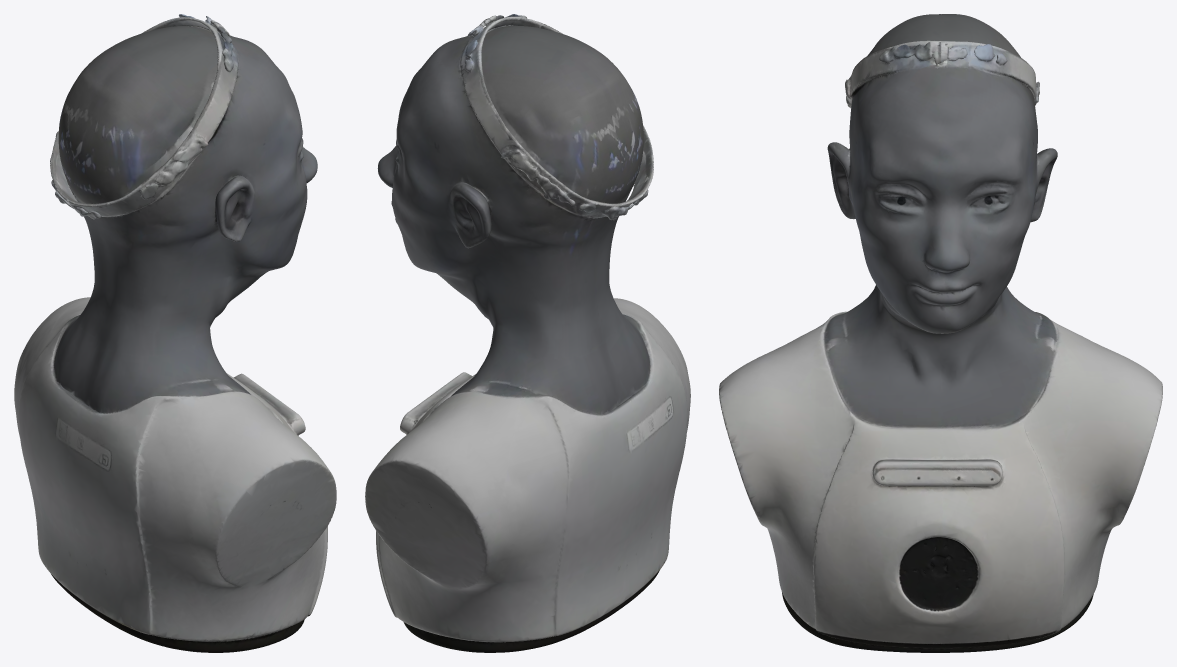
Rendered from ameca.glb.
The picture shows the model from 3 angles, left to right: view 1: azimuth 30°, elevation 25°; view 2: azimuth 150°, elevation 25°; view 3: azimuth 270°, elevation 25°; orthographic projection. The views are drawn at different scales.
Visible parts, largest first — view 1: tripo_node_65aad20d-221b-40c7-afce-131884609060; view 2: tripo_node_65aad20d-221b-40c7-afce-131884609060; view 3: tripo_node_65aad20d-221b-40c7-afce-131884609060.
Part boxes in pixels (x1,y1,x2,y2): tripo_node_65aad20d-221b-40c7-afce-131884609060: (14,14,336,652); tripo_node_65aad20d-221b-40c7-afce-131884609060: (365,14,690,652); tripo_node_65aad20d-221b-40c7-afce-131884609060: (719,14,1162,652).
Bounding box in the file's own units: 0.4673 × 1 × 0.6872.
Materials: 1 (1 with a texture image).
